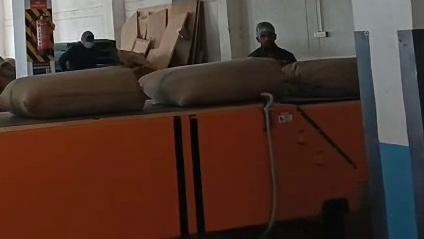box: (0, 67, 146, 118), (139, 58, 284, 106), (284, 57, 358, 98)
